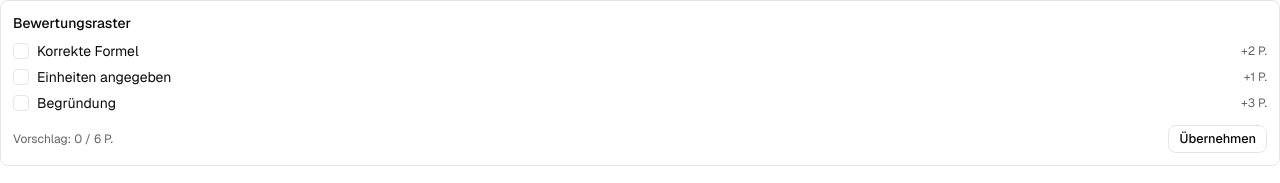
Test: unchecks on a second click
The width and height of the screenshot is (1280, 183).
Click the checkbox labelled "Einheiten angegeben +1 P.".
click(104, 77)  # box [13,67,1267,87]
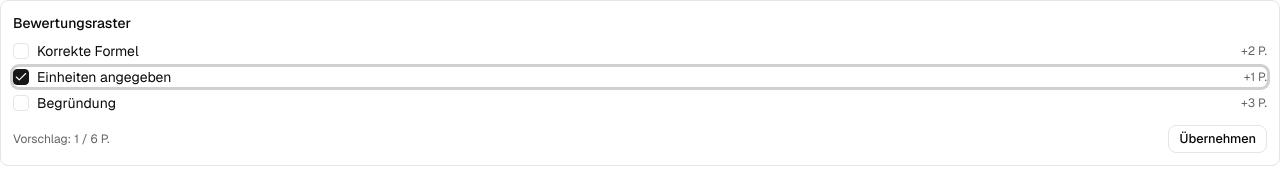
Check: the checkbox labelled "Einheiten angegeben +1 P." is checked
Click the checkbox labelled "Einheiten angegeben +1 P.".
click(640, 77)  # box [13,67,1267,87]
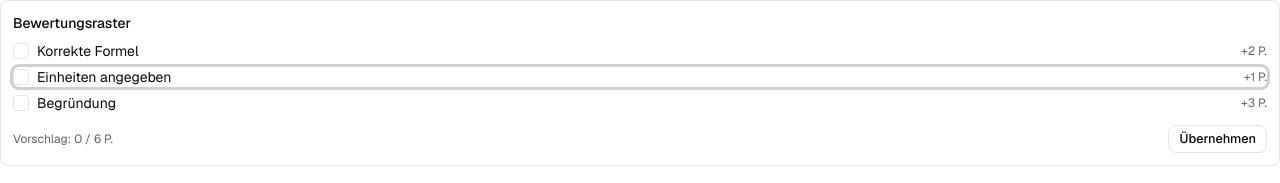
Check: the text "Vorschlag: 0 / 6 P." is shown, box [13,131,113,147]
